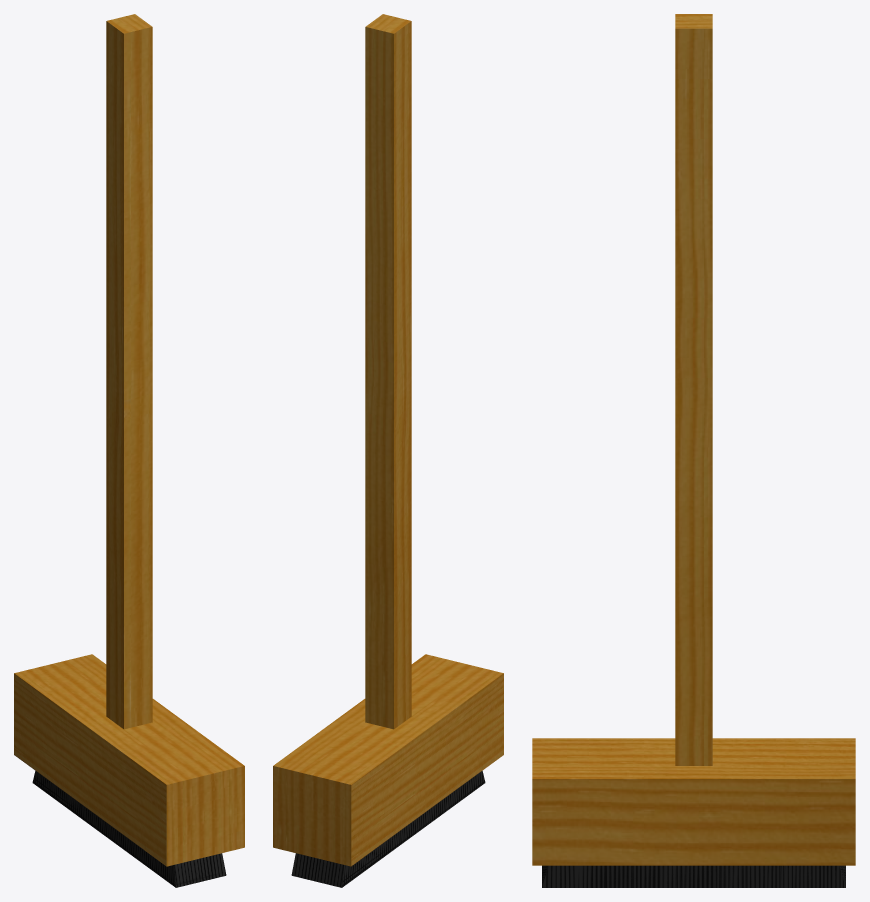
The model's file is broom.obj.
3 views of the same model, side by side, from view 1: azimuth 30°, elevation 25°; view 2: azimuth 150°, elevation 25°; view 3: azimuth 270°, elevation 25° (orthographic). The views are drawn at different scales.
Parts seen in each view (by area): view 1: broom; view 2: broom; view 3: broom.
Part boxes in pixels (box(x1,y1,x2,y2)): broom: box(14, 14, 244, 887); broom: box(273, 14, 503, 887); broom: box(532, 14, 855, 887).
Bounding box in the file's own units: 0.2199 × 2.17 × 0.7437.
1 material, 1 textured.
